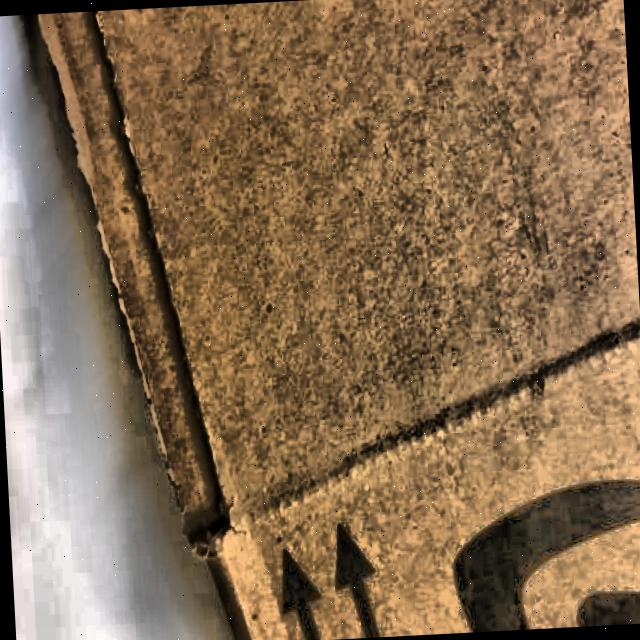cardboard: (61, 0, 638, 631)
